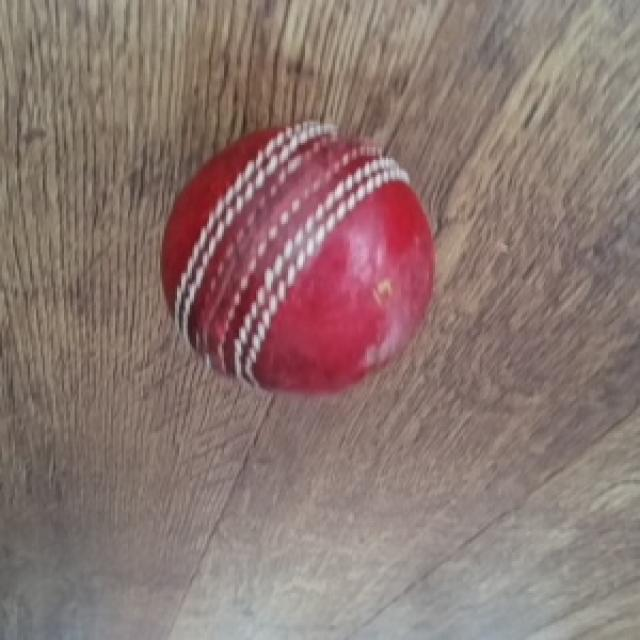ball: (160, 122, 437, 399)
